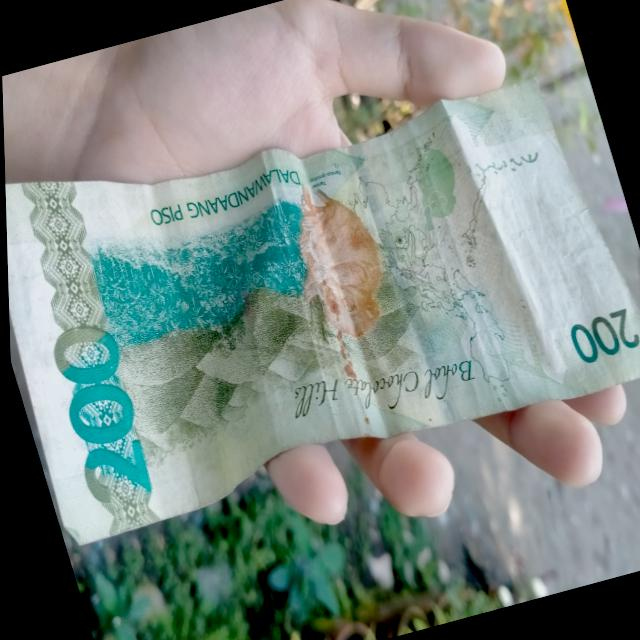see_through_mark: (448, 127, 551, 195)
value: (31, 306, 166, 518)
